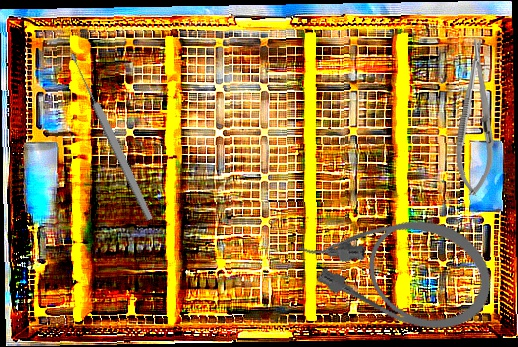Cannula: (285, 182, 505, 347)
Needle Holder: (453, 38, 499, 197)
Surgical Spoon: (67, 51, 156, 222)
